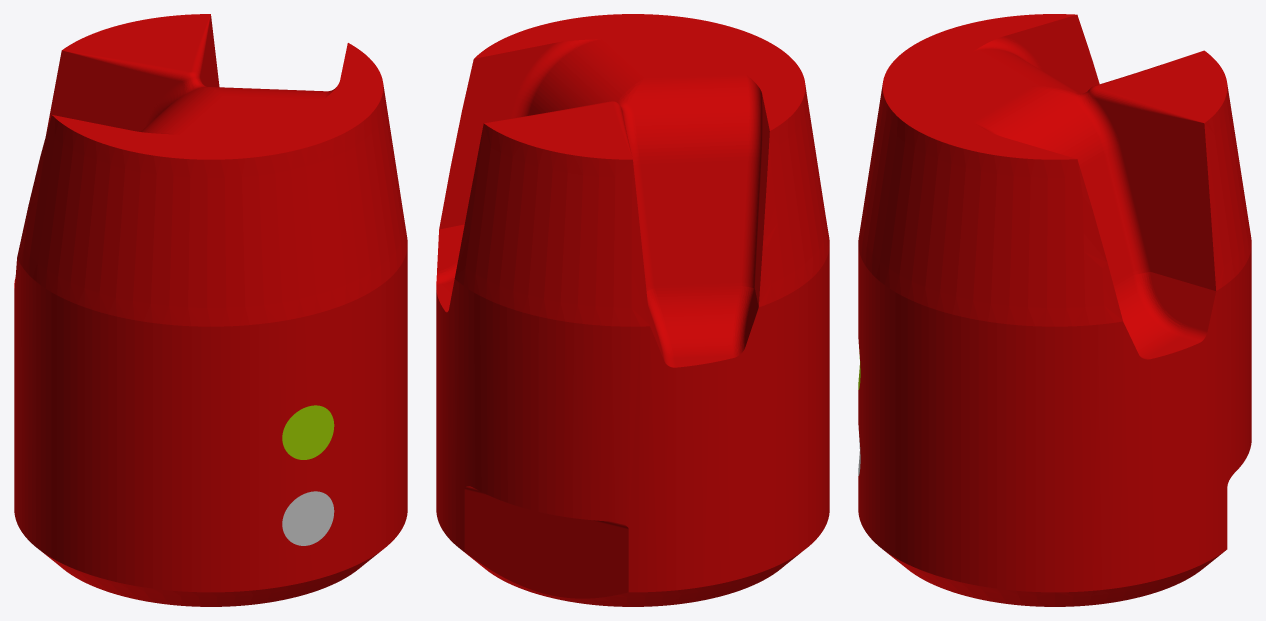
3 views of the same model, side by side, from view 1: azimuth 30°, elevation 25°; view 2: azimuth 150°, elevation 25°; view 3: azimuth 270°, elevation 25° (orthographic).
Parts seen in each view (by area): view 1: soucastkaOuterCube3; view 2: soucastkaOuterCube3; view 3: soucastkaOuterCube3.
Boxes of the visible parts, box(x1,y1,x2,y2) form: soucastkaOuterCube3: box(14, 14, 407, 606); soucastkaOuterCube3: box(436, 14, 829, 606); soucastkaOuterCube3: box(858, 14, 1251, 606).
Size of the model in its own units: 0.0913 by 0.1151 by 0.0913.
